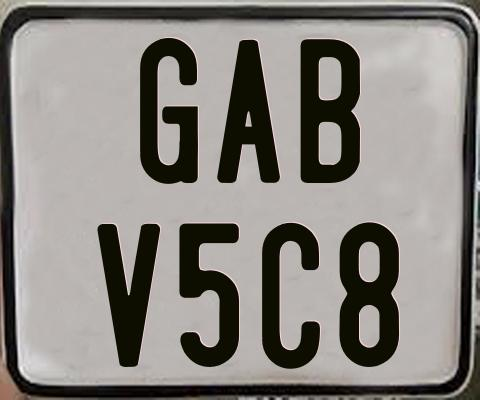5: (178, 220, 244, 368)
8: (338, 219, 400, 365)
A: (215, 39, 283, 185)
B: (300, 39, 363, 185)
C: (261, 221, 321, 368)
G: (137, 37, 199, 186)
V: (94, 221, 162, 370)
